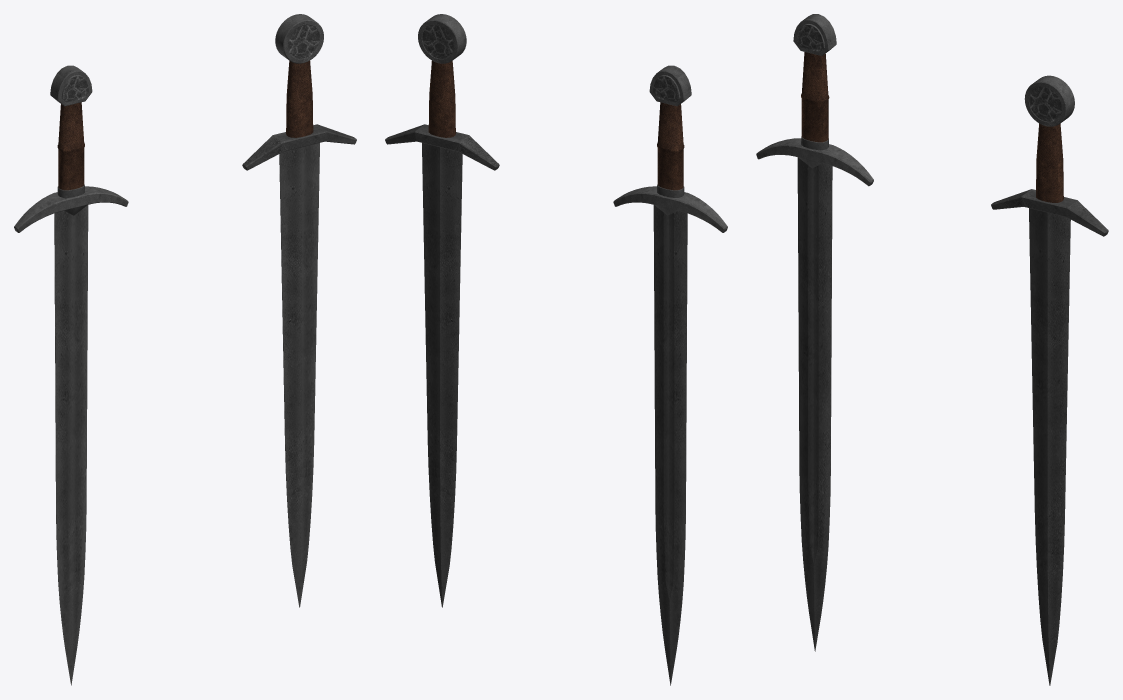
The model's file is low poly sword.fbx.
The picture shows the model from 3 angles, left to right: view 1: azimuth 30°, elevation 25°; view 2: azimuth 150°, elevation 25°; view 3: azimuth 330°, elevation 25°; orthographic projection. The views are drawn at different scales.
Parts seen in each view (by area): view 1: 立方体.002, 立方体.005, 立方体.003, 立方体, 柱体, 立方体.004, 立方体.001, 立方体.006; view 2: 立方体.002, 立方体.005, 立方体.003, 立方体, 柱体, 立方体.004, 立方体.001, 立方体.006; view 3: 立方体.002, 立方体.005, 立方体.003, 立方体, 柱体, 立方体.004, 立方体.001, 立方体.006.
Part boxes in pixels (x1,y1,x2,y2): 立方体.002: (279,143,319,607); 立方体.005: (54,205,88,685); 立方体.003: (57,102,84,190); 立方体: (286,60,313,137); 柱体: (275,14,323,63); 立方体.004: (14,186,128,232); 立方体.001: (242,124,356,170); 立方体.006: (50,65,92,106); 立方体.002: (422,143,462,607); 立方体.005: (653,205,687,685); 立方体.003: (657,102,684,190); 立方体: (428,60,455,137); 柱体: (418,14,466,63); 立方体.004: (613,186,727,232); 立方体.001: (385,124,499,170); 立方体.006: (649,65,691,106); 立方体.002: (1029,208,1070,685); 立方体.005: (797,157,832,651); 立方体.003: (801,52,829,142); 立方体: (1036,123,1063,202); 柱体: (1024,75,1074,126); 立方体.004: (756,138,873,186); 立方体.001: (991,189,1108,236); 立方体.006: (793,14,836,55).
Bounding box in the file's own units: 180 × 313 × 9.53.
